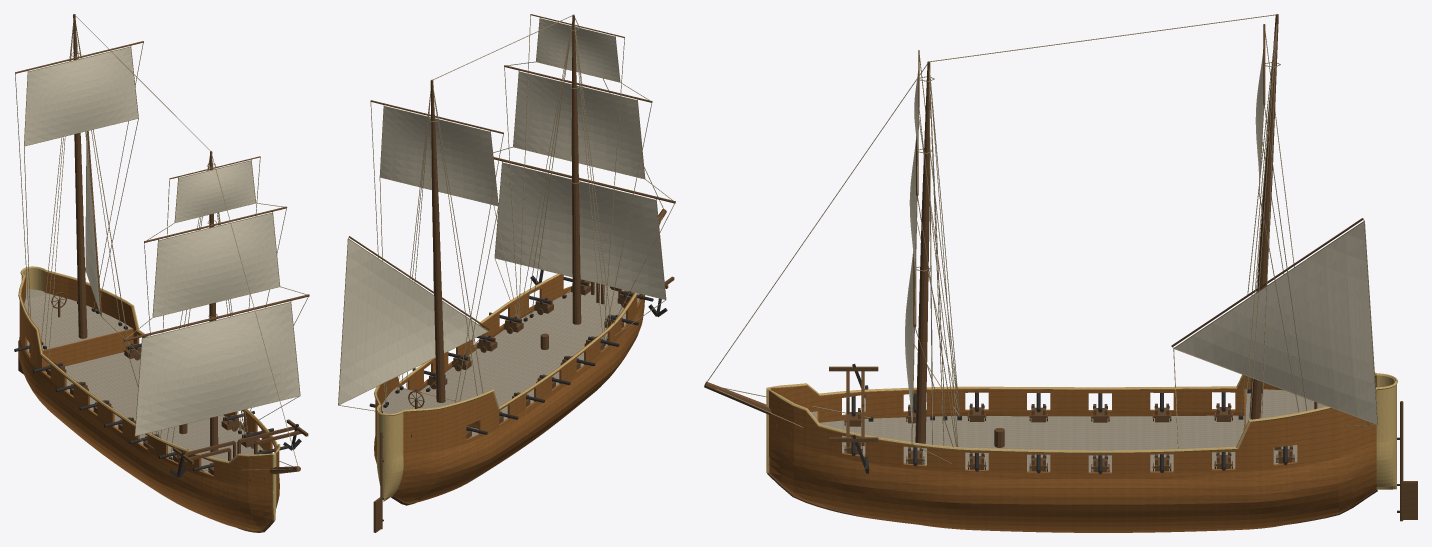
The model's file is ship.glb.
The picture shows the model from 3 angles, left to right: view 1: azimuth 30°, elevation 25°; view 2: azimuth 150°, elevation 25°; view 3: azimuth 270°, elevation 25°; orthographic projection. The views are drawn at different scales.
Visible parts, largest first — view 1: fore_square_00, hull_shell_starboard, fore_square_01, main_square_00, main_deck, fore_square_02, castle_deck_0, hull_shell_port, main, castle_bulkhead_0_1, main_lateen_01, gunwale_starboard (+7 smaller); view 2: fore_square_00, hull_shell_starboard, main_lateen_01, fore_square_01, main_deck, main_square_00, fore_square_02, hull_shell_port, main, fore, stern_closure, castle_deck_0 (+2 smaller); view 3: hull_shell_port, main_lateen_01, main_deck, hull_shell_starboard, fore, main, stern_closure, gunwale_port, castle_deck_0, gunwale_starboard, fore_square_00.
Boxes of the visible parts, <box> form: fore_square_00: <box>135,302,299,435</box>; hull_shell_starboard: <box>18,276,272,530</box>; fore_square_01: <box>153,213,279,317</box>; main_square_00: <box>24,47,138,145</box>; main_deck: <box>27,340,262,473</box>; fore_square_02: <box>175,161,255,222</box>; castle_deck_0: <box>24,289,132,350</box>; hull_shell_port: <box>44,271,279,508</box>; main: <box>73,14,87,338</box>; castle_bulkhead_0_1: <box>42,328,133,371</box>; main_lateen_01: <box>85,131,100,312</box>; gunwale_starboard: <box>18,275,272,463</box>; fore_square_00: <box>495,163,665,299</box>; hull_shell_starboard: <box>392,292,644,503</box>; main_lateen_01: <box>338,239,487,404</box>; fore_square_01: <box>513,72,644,178</box>; main_deck: <box>383,283,639,459</box>; main_square_00: <box>380,106,498,205</box>; fore_square_02: <box>536,19,619,81</box>; hull_shell_port: <box>374,274,590,463</box>; main: <box>430,80,445,402</box>; fore: <box>571,14,581,324</box>; stern_closure: <box>377,406,403,501</box>; castle_deck_0: <box>382,387,457,437</box>; hull_shell_port: <box>769,390,1376,532</box>; main_lateen_01: <box>1175,222,1377,423</box>; main_deck: <box>819,415,1297,472</box>; hull_shell_starboard: <box>770,375,1376,422</box>; fore: <box>915,61,930,443</box>; main: <box>1249,14,1278,419</box>; stern_closure: <box>1376,375,1396,489</box>; gunwale_port: <box>768,387,1377,453</box>; castle_deck_0: <box>1246,389,1326,425</box>; gunwale_starboard: <box>768,372,1376,395</box>; fore_square_00: <box>905,251,913,427</box>.
Bounding box in the file's own units: 11.68 × 24.4 × 30.52.
Materials: 7 (7 with a texture image).
